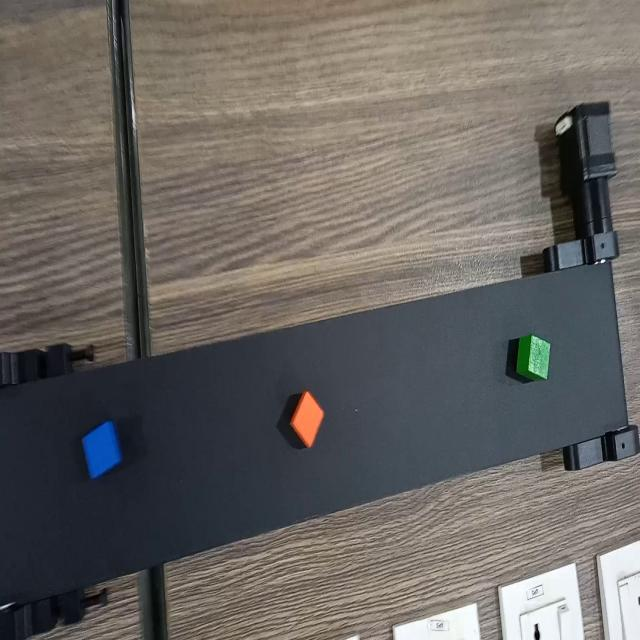cube: (74, 415, 128, 484), (507, 327, 554, 385)
